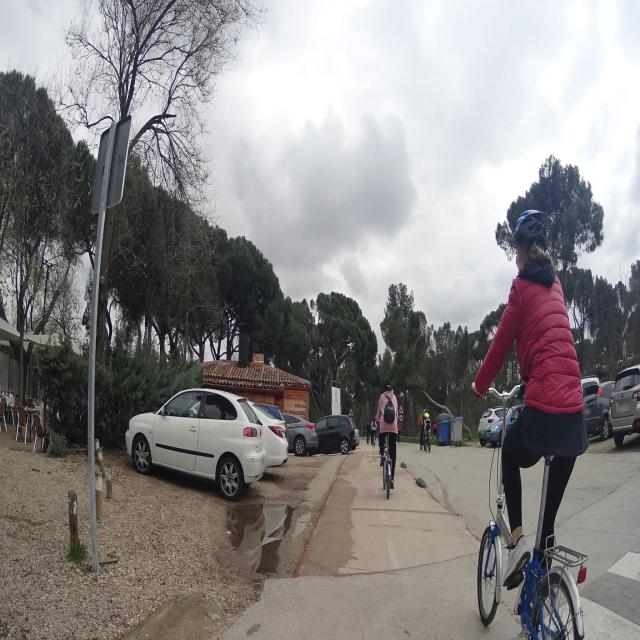bike: (475, 398, 589, 639)
car: (125, 386, 288, 500), (609, 362, 640, 448), (581, 378, 616, 442), (315, 414, 358, 453), (280, 413, 319, 456), (478, 406, 506, 446)
